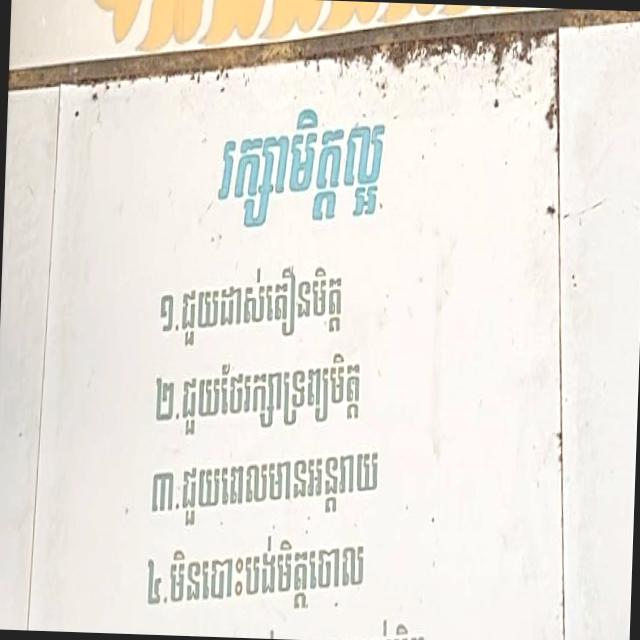1: (151, 344, 364, 444), (151, 440, 382, 530), (158, 262, 344, 350)
Yolov11_80vkh: (210, 105, 390, 240), (143, 515, 367, 623)
